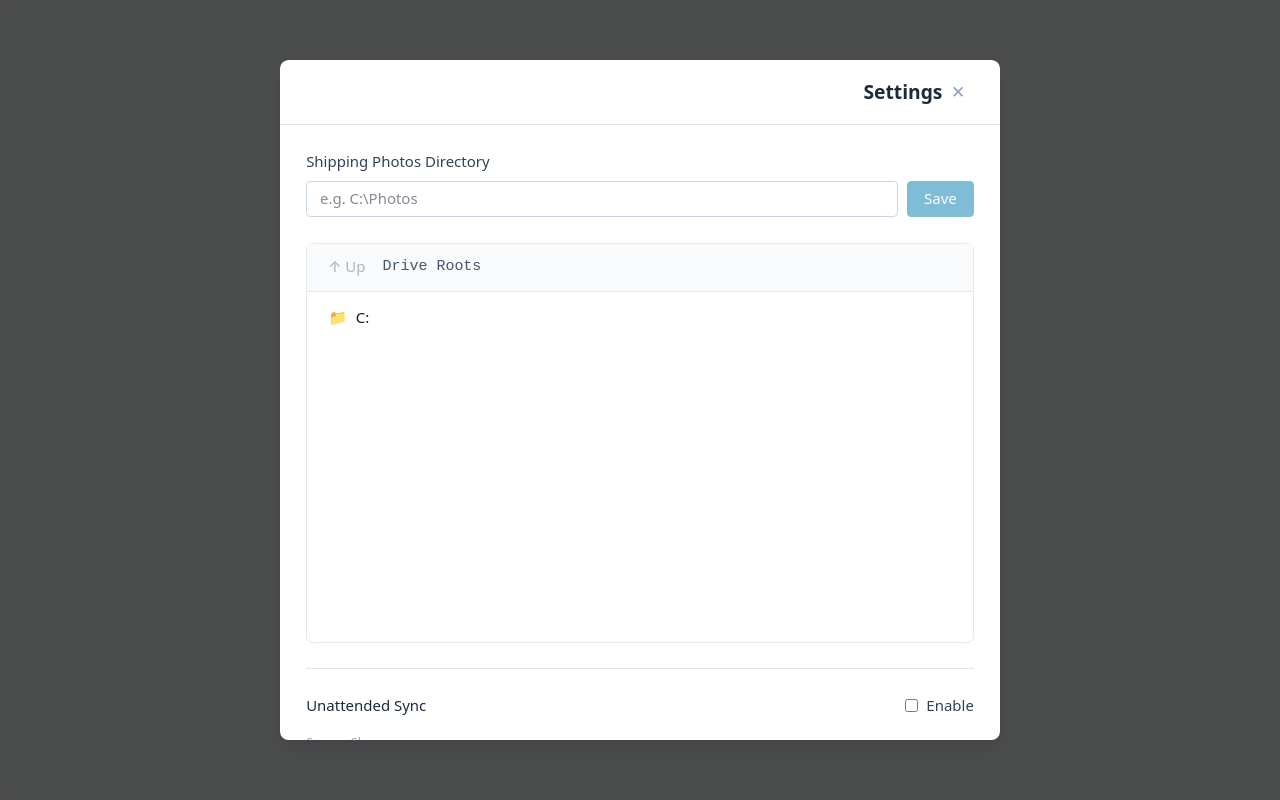
Test case: SettingsModal.vue › busy outcome renders retry line and leaves listing
Click the button "📁 C:" at (338, 317), box [316,300,964,334]
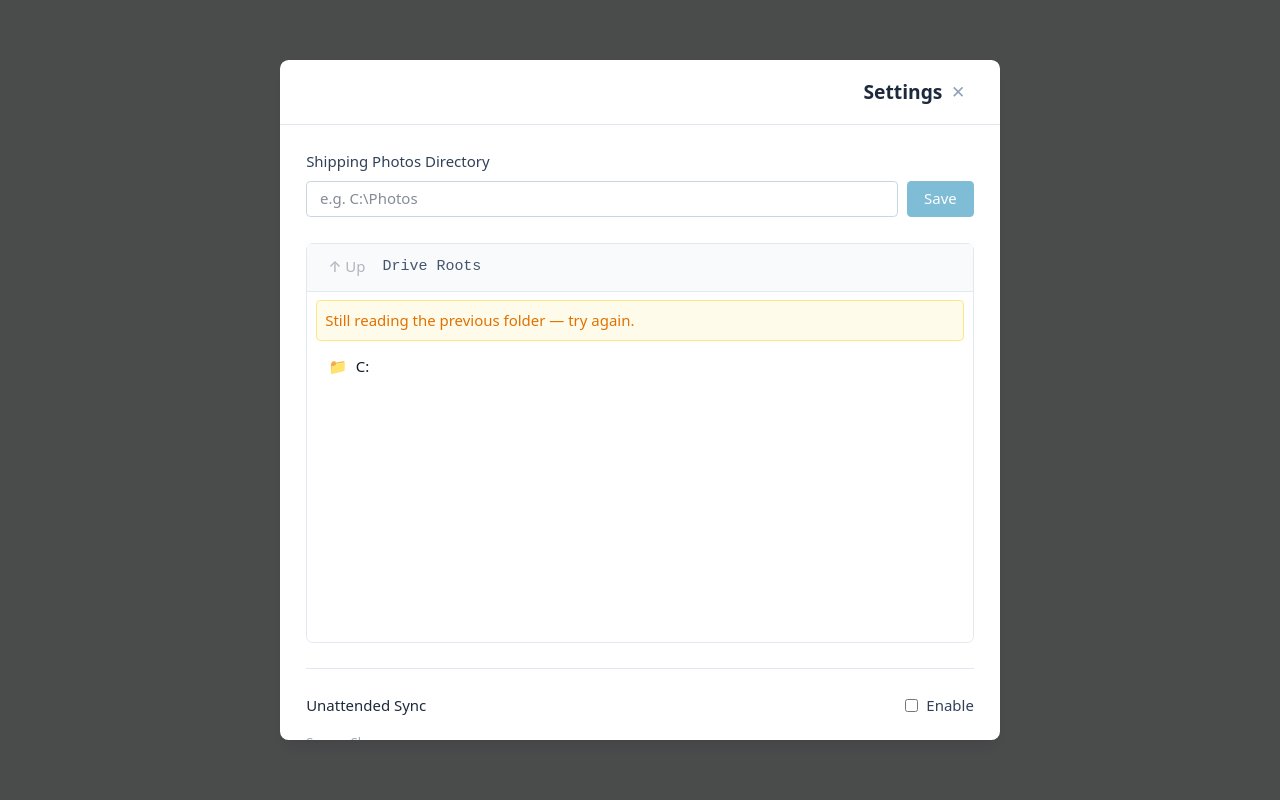
Expected: the text "C:" is shown, [356,356,369,377]
Now the text "Still reading the previous folder" is shown, box [325,310,634,330]
